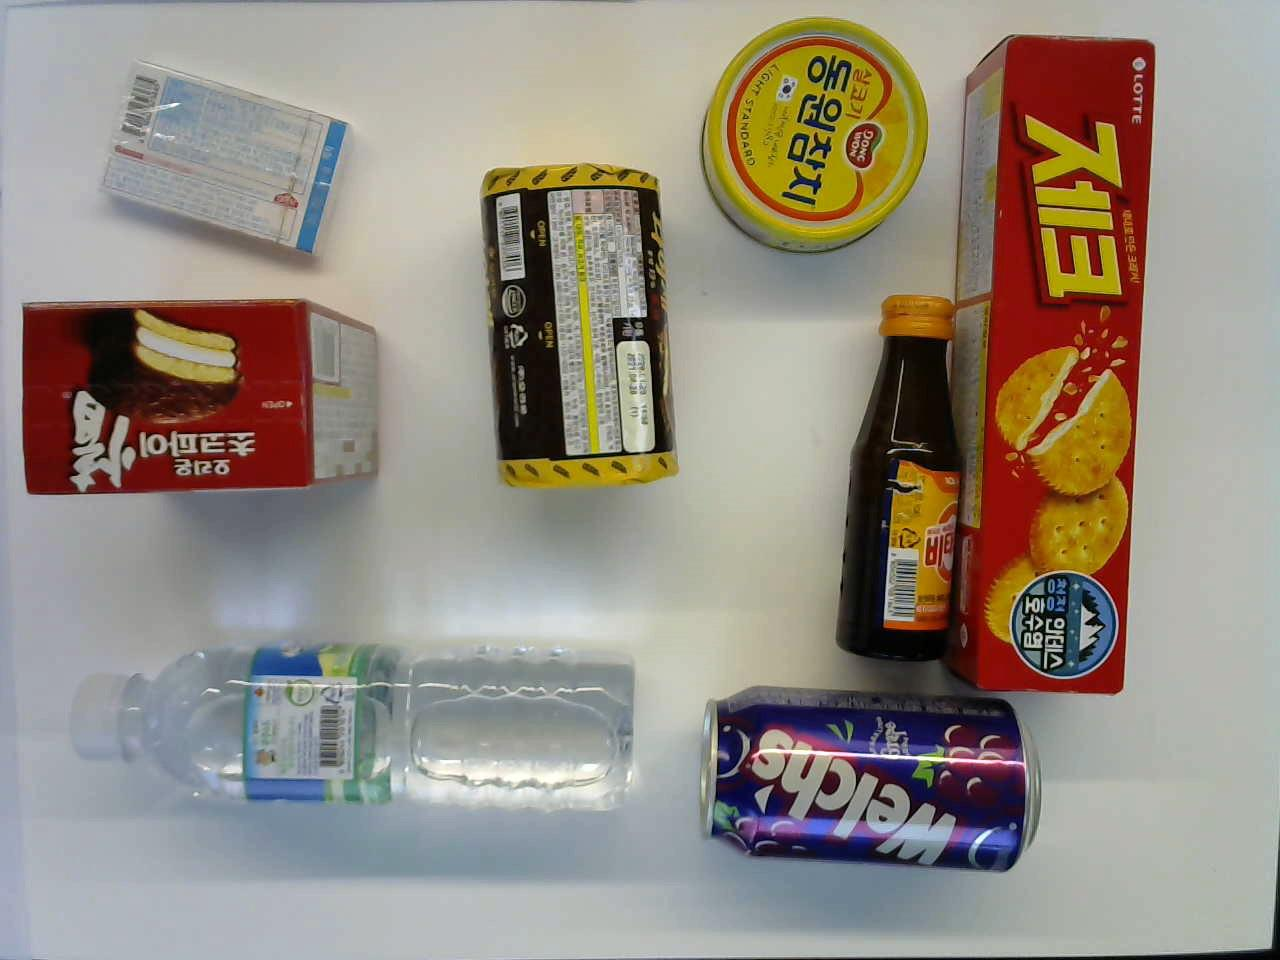ID_gum: (91, 59, 357, 263)
chocopie: (16, 299, 388, 500)
diget_choco: (473, 156, 681, 491)
samdasu: (66, 631, 641, 823)
tuna: (696, 15, 930, 259)
vita500: (829, 288, 964, 667)
welchs: (698, 675, 1049, 879)
zec: (937, 27, 1161, 695)
